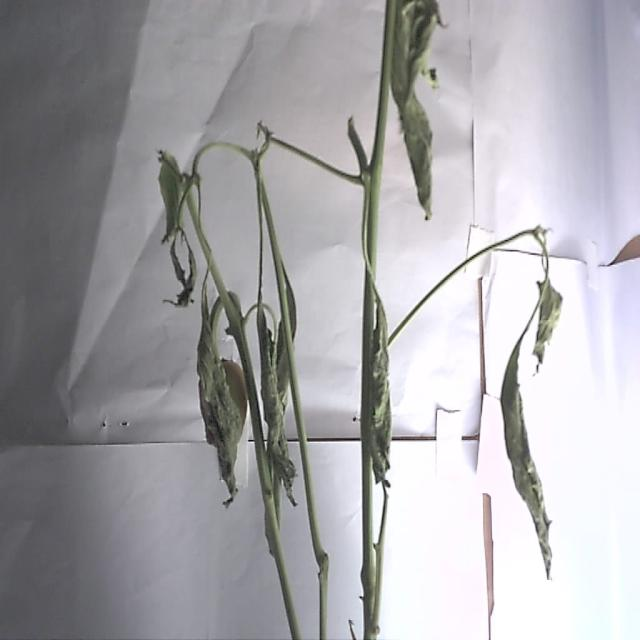Leaf: (498, 326, 552, 586), (194, 277, 247, 506), (154, 150, 198, 306), (365, 299, 393, 484), (398, 88, 433, 220), (272, 228, 297, 402), (530, 271, 562, 371), (347, 114, 368, 171)
